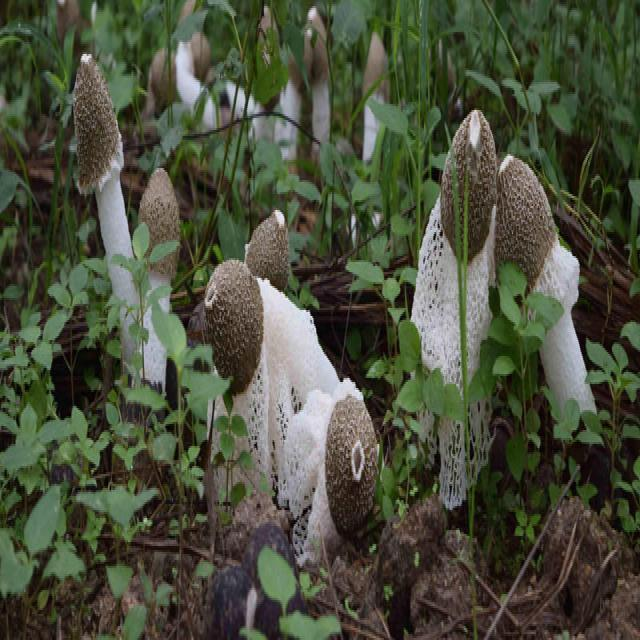Dictyophora indusiate: (412, 107, 498, 506), (497, 159, 601, 430), (74, 47, 145, 370), (284, 389, 380, 546), (208, 262, 268, 499), (253, 219, 302, 491), (142, 164, 178, 396), (300, 9, 331, 157), (360, 34, 388, 176)
